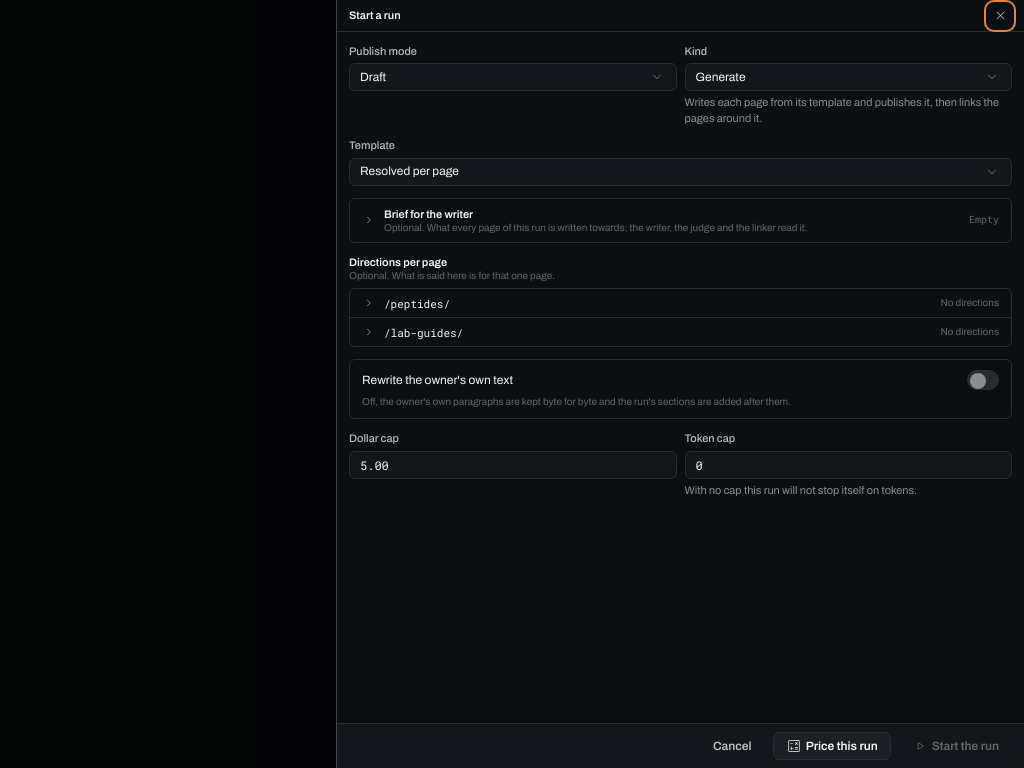
Test case: rewriting the owner's own text from the start dialog › asks first, naming every chosen page and saying its own paragraphs will be replaced
Click the switch labelled "Rewrite the owner's own text". click: (438,380)
box: [362,370,999,390]
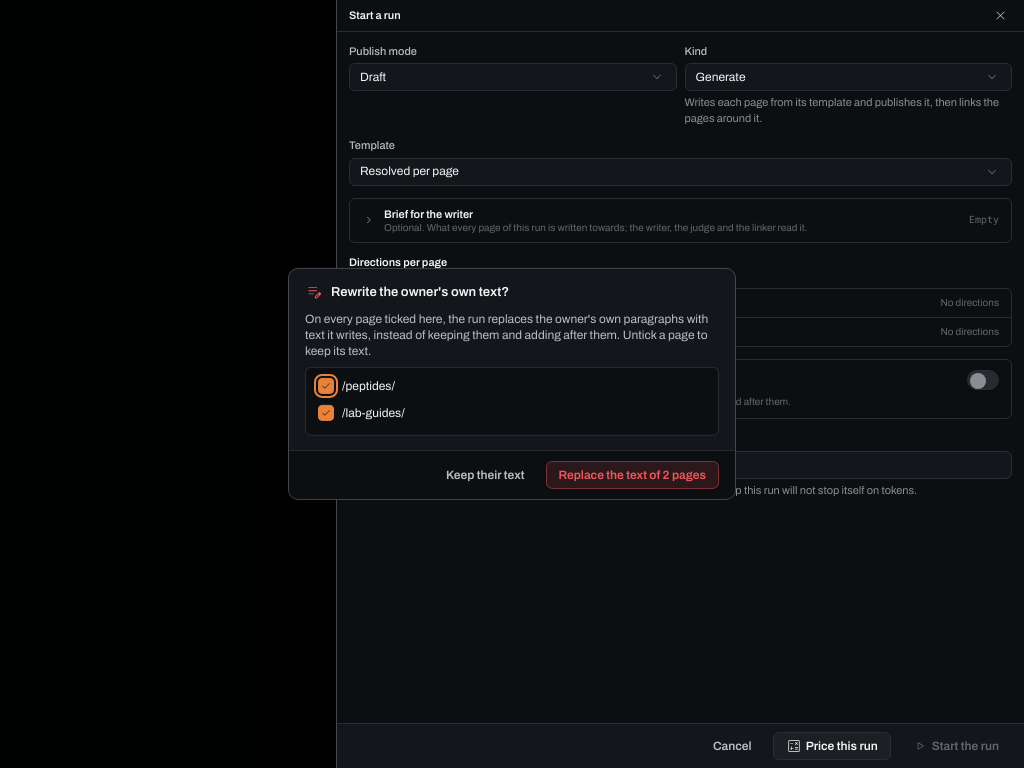
Now the text "On every page ticked here, the run replaces the owner's own paragraphs with text it writes, instead of keeping them and " is shown, box [305,311,708,358]
Now the checkbox labelled "/peptides/" is checked, box [318,378,395,394]
Now the checkbox labelled "/lab-guides/" is checked, box [318,404,405,421]
